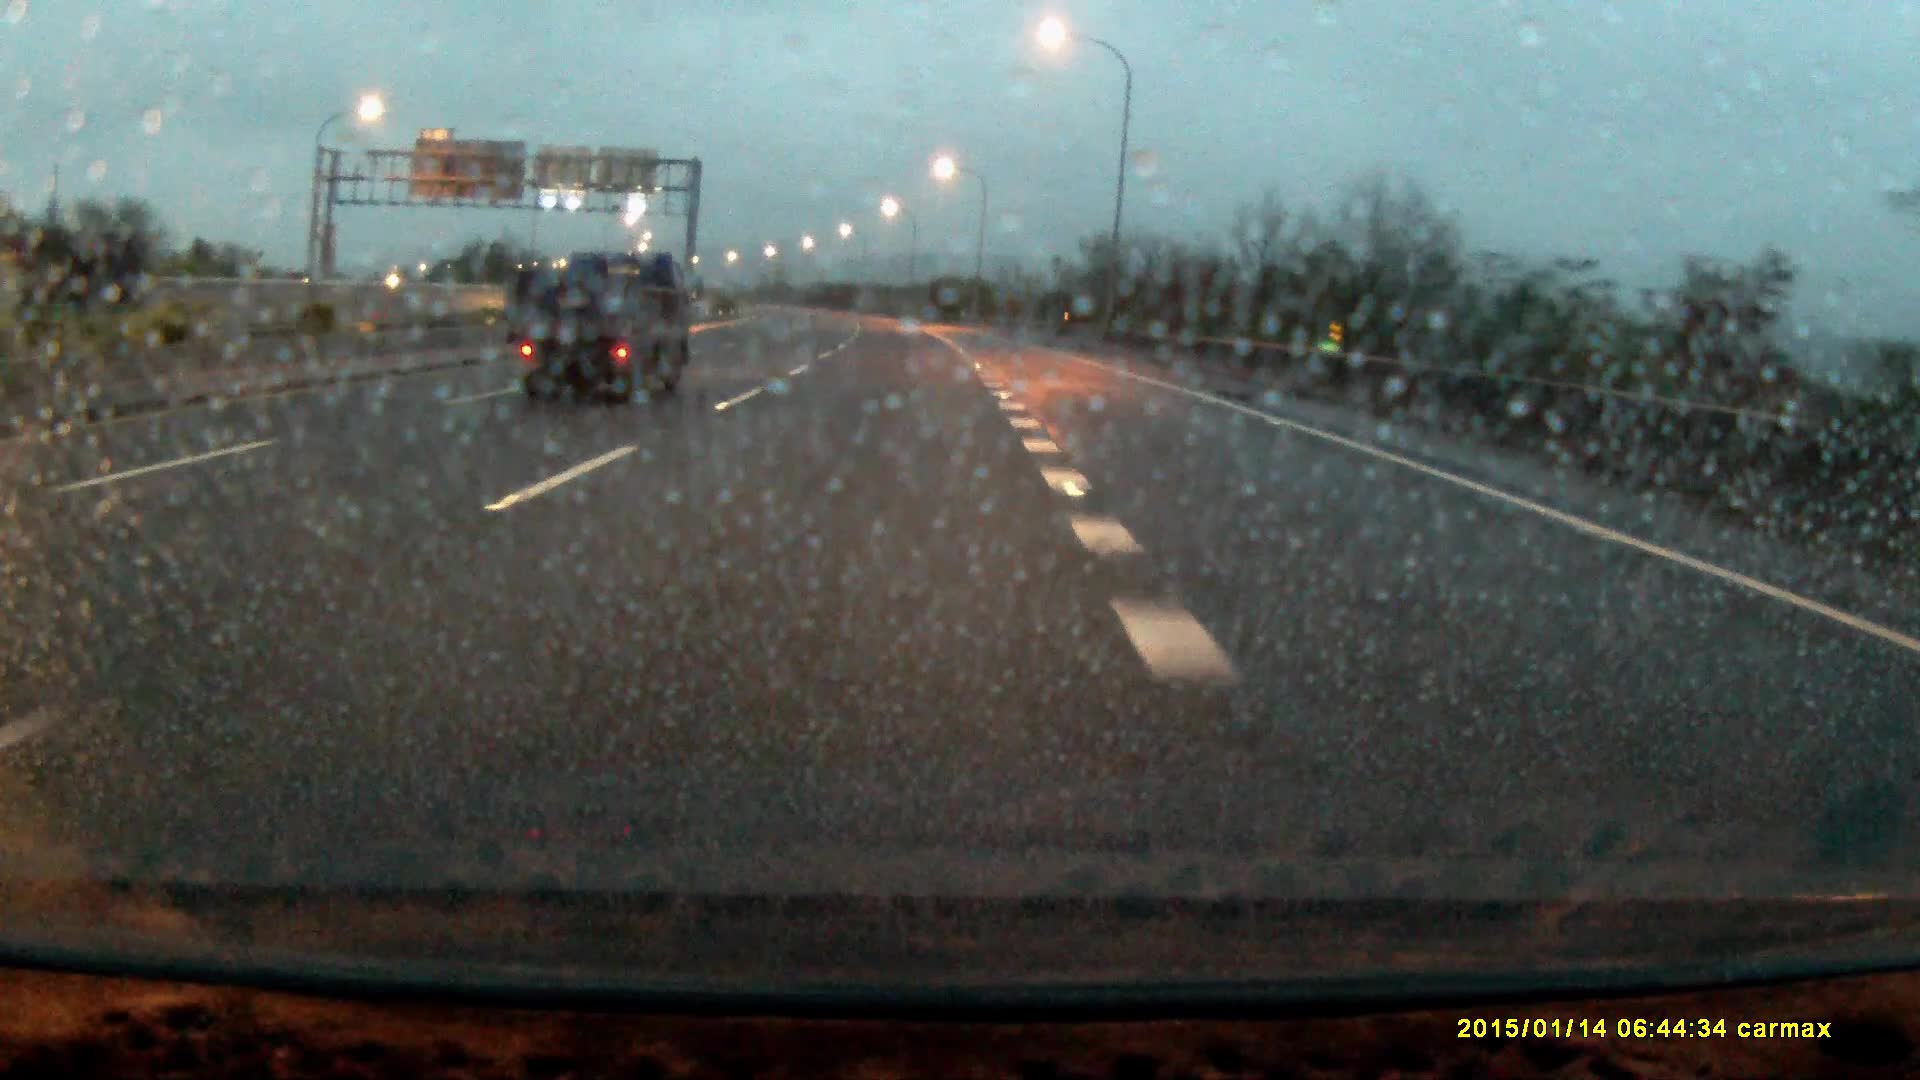vehicle: (508, 251, 698, 405)
